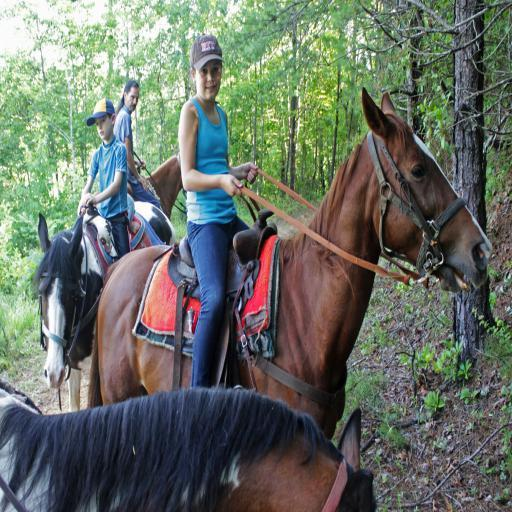horse: (86, 88, 494, 437), (0, 404, 379, 512), (31, 210, 176, 414), (142, 152, 184, 218)
